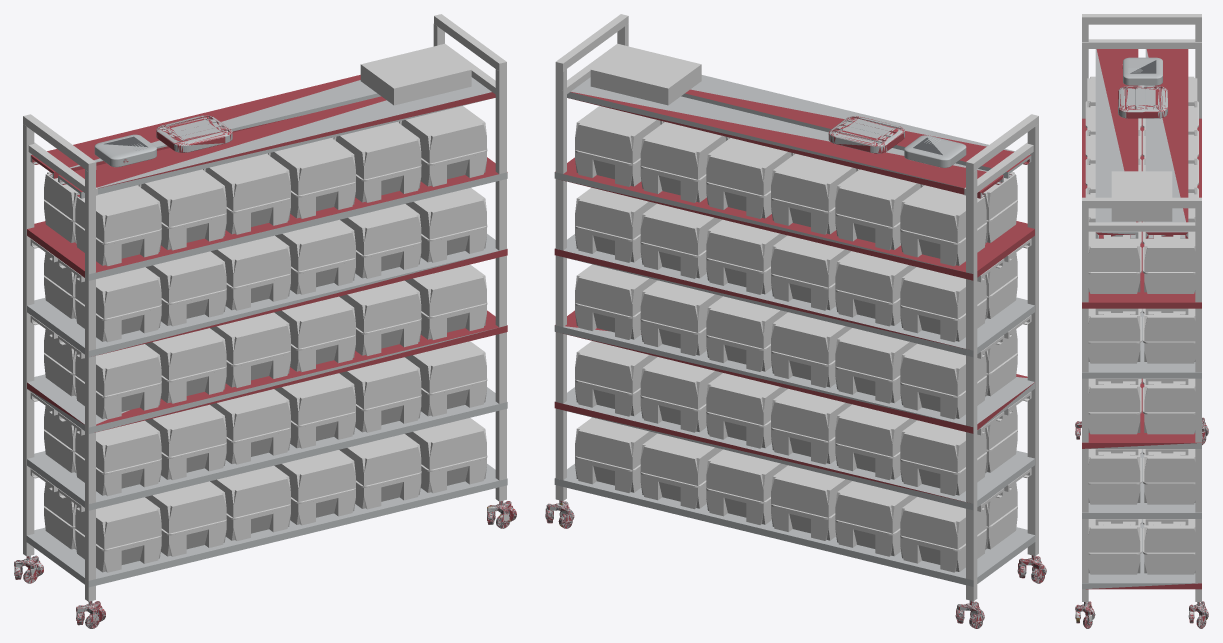
Rendered from UHF-6-5-2.glb.
3 views of the same model, side by side, from view 1: azimuth 30°, elevation 25°; view 2: azimuth 150°, elevation 25°; view 3: azimuth 270°, elevation 25° (orthographic). The views are drawn at different scales.
Size of the model in its own units: 174 by 175 by 50.
